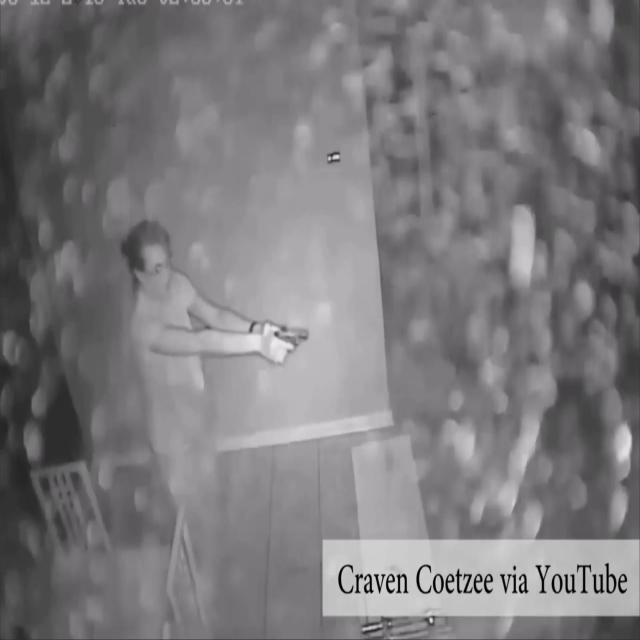Gun: (261, 311, 320, 378)
